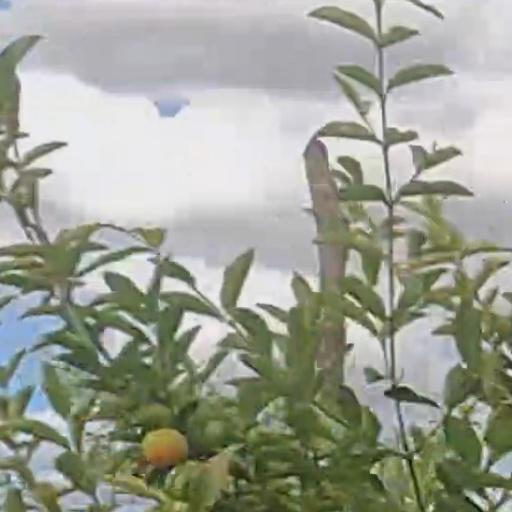acerola_vermelha: (145, 432, 187, 465)
